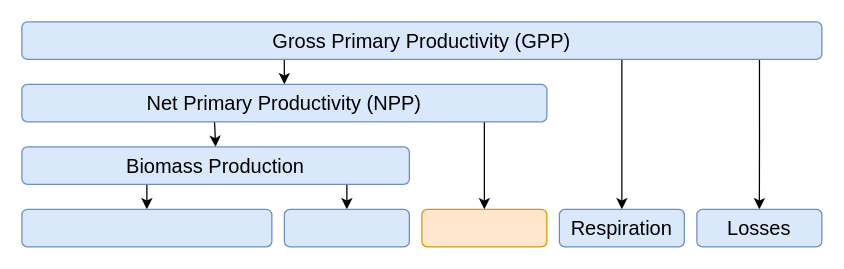
Some shapes in this 844 by 269 pixel diagram are drawn without their labels. Here are the shapes that lost their labels. From the top down, the box of each, then its label:
(21, 208, 272, 247): Growth Increment
(283, 208, 409, 247): Turnover
(421, 208, 547, 247): Other costs
